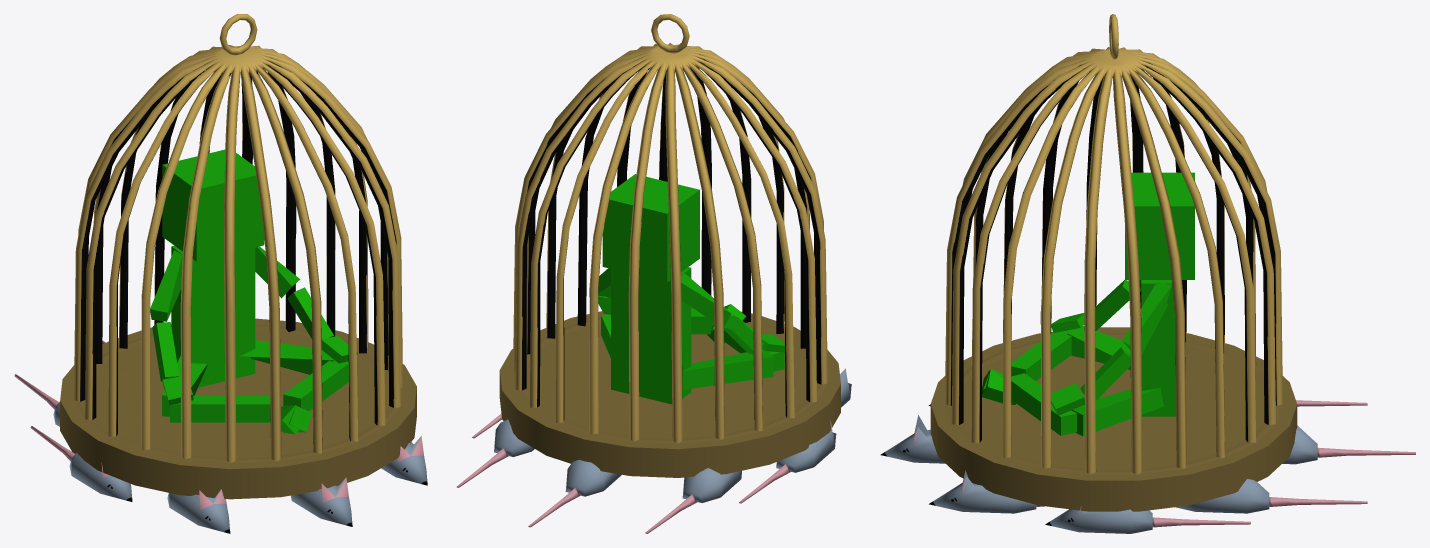
The model's file is character_v1_1.fbx.
3 views of the same model, side by side, from view 1: azimuth 30°, elevation 25°; view 2: azimuth 150°, elevation 25°; view 3: azimuth 270°, elevation 25° (orthographic). The views are drawn at different scales.
Parts seen in each view (by area): view 1: BézierCircle, Cube.006, Plane; view 2: BézierCircle, Cube.006, Plane; view 3: BézierCircle, Cube.006, Plane.
Part boxes in pixels (left/top/right/bottom): BézierCircle: left=60, top=14, right=416, bottom=499; Cube.006: left=150, top=149, right=357, bottom=434; Plane: left=14, top=340, right=427, bottom=533; BézierCircle: left=499, top=14, right=840, bottom=477; Cube.006: left=598, top=174, right=784, bottom=404; Plane: left=456, top=368, right=851, bottom=533; BézierCircle: left=930, top=14, right=1297, bottom=511; Cube.006: left=982, top=172, right=1194, bottom=436; Plane: left=880, top=400, right=1415, bottom=533.
Bounding box in the file's own units: 193 × 250 × 277.
Materials: 3 (3 with a texture image).
